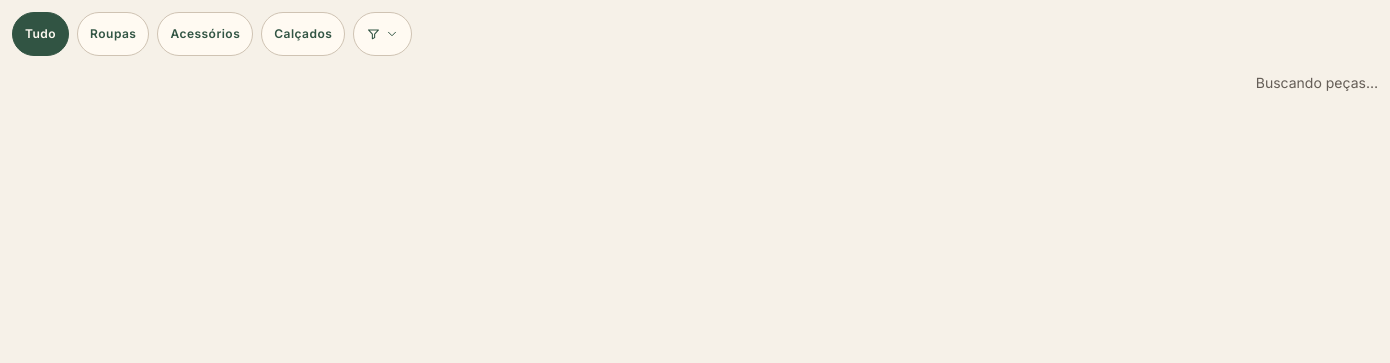
Test: FilterPanel › cidade vinda da URL que não está nas opções continua visível e removível
Click the button named "mais filtros".
click(383, 34)  # box [353,12,412,56]
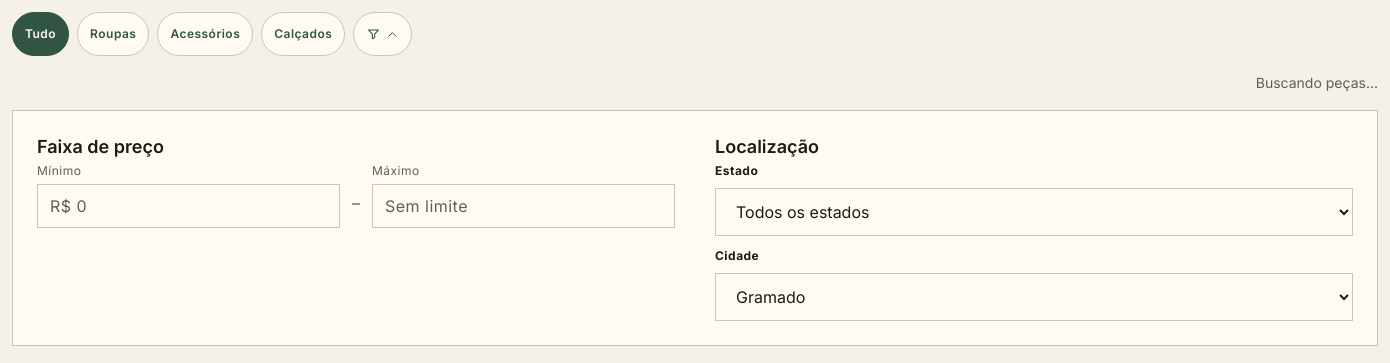
Expected: the dropdown labelled "Cidade" shows "Gramado", [715,273,1353,321]
